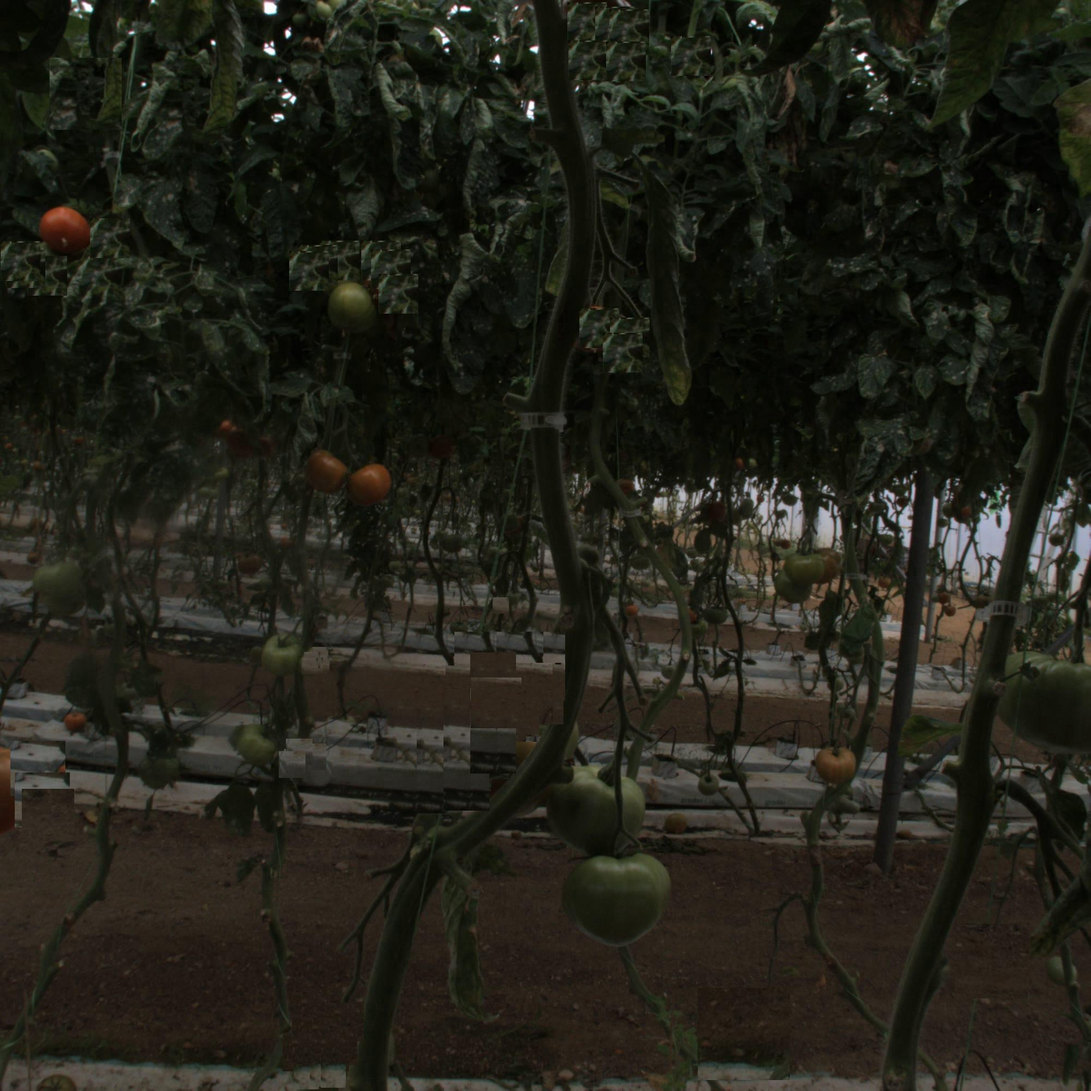fully-ripe: (40, 207, 88, 255), (347, 462, 391, 506)
semi-ripe: (814, 742, 856, 783), (307, 452, 346, 491)
unripe: (570, 844, 670, 944), (996, 651, 1089, 744), (552, 762, 643, 853), (327, 284, 375, 332), (235, 721, 280, 767), (35, 556, 79, 600), (261, 634, 304, 676), (786, 548, 825, 587)
